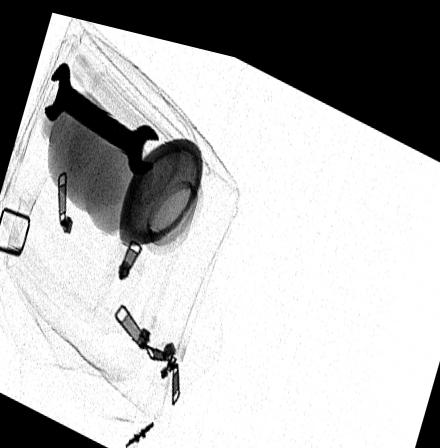Wrench: (39, 56, 160, 171)
